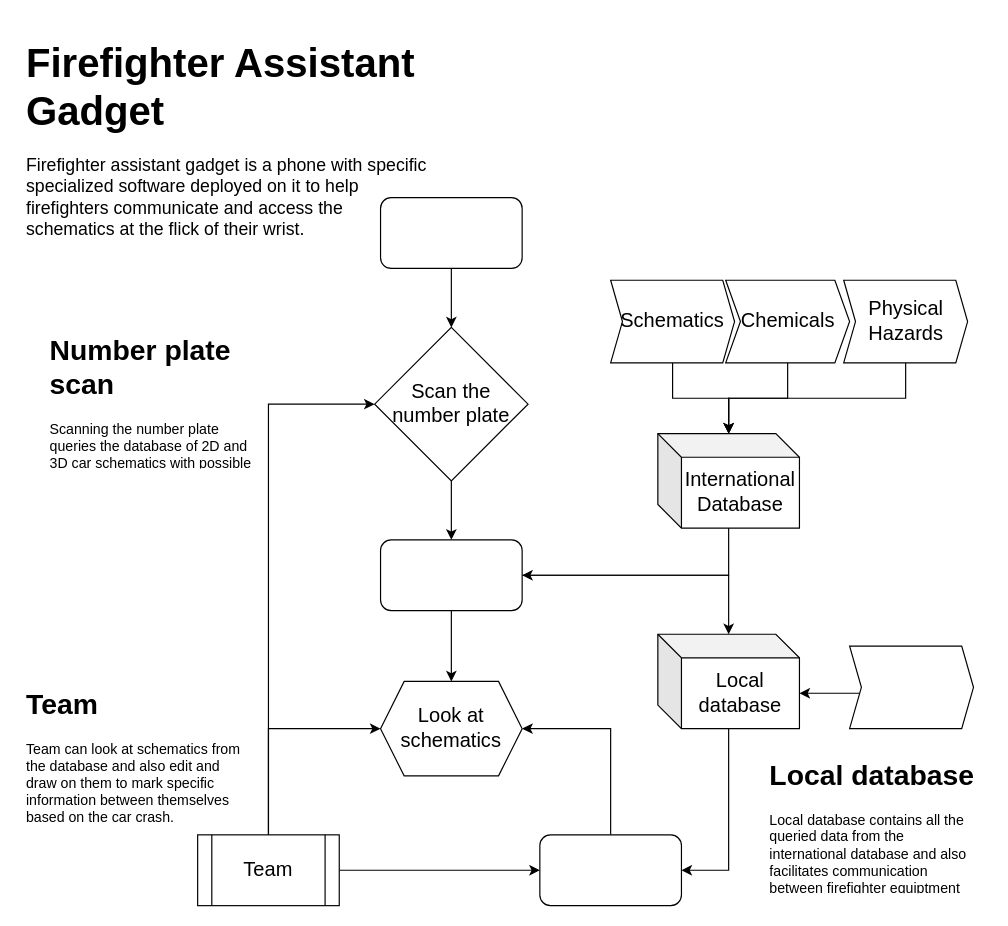
The diagram is 1008 pixels wide and 926 high, and some of its shapes have lost their labels. The shapes that lost their labels are listed below. From the top down, each one's box as (x1, y1, x2, y2) in pixels, then its label:
(379, 196, 522, 268): Application Opened
(379, 539, 522, 611): Load car Schematics
(848, 645, 974, 729): Firefighter Drawings
(539, 834, 681, 906): Sharing of information
